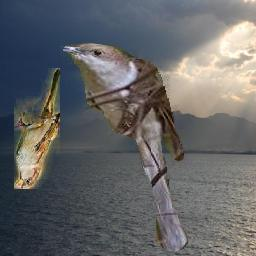Cuckoo: (61, 43, 190, 251)
Sparrow: (14, 69, 60, 190)
